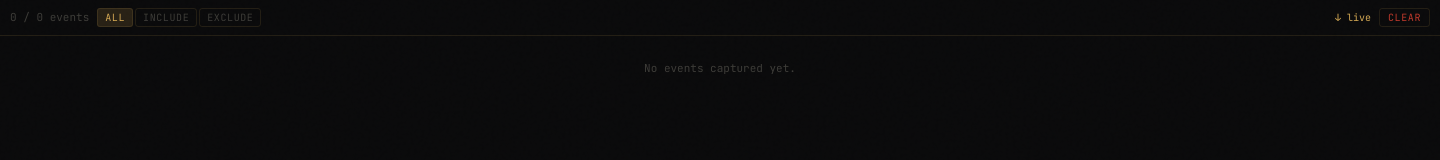
Scenario: WsDevtools › include mode shows filter input
Click the button with test id "filter-mode-include". click: (166, 18)
box: [135,8,197,27]
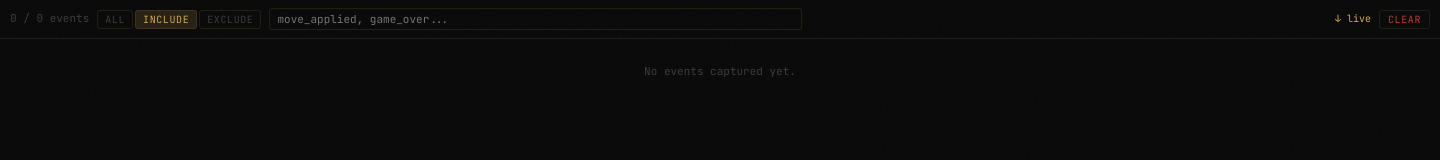
Now the field with test id "filter-input" is shown, box [270,8,802,30]
